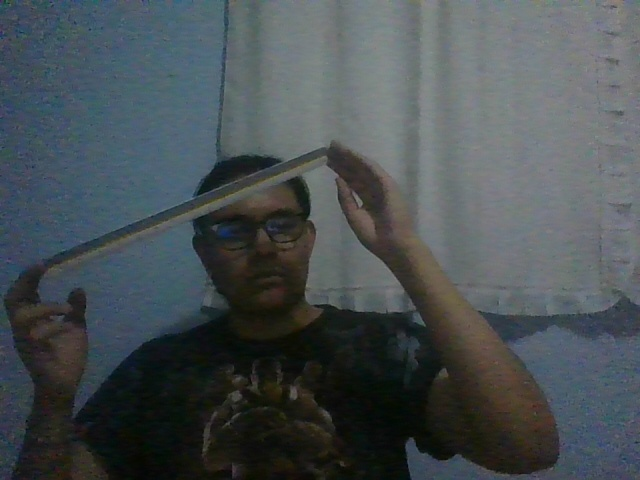regla: (41, 147, 328, 277)
